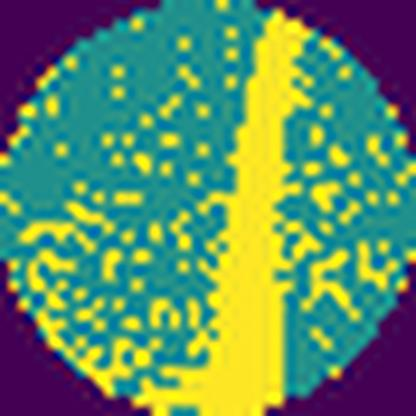Loc: (137, 7, 314, 416)
